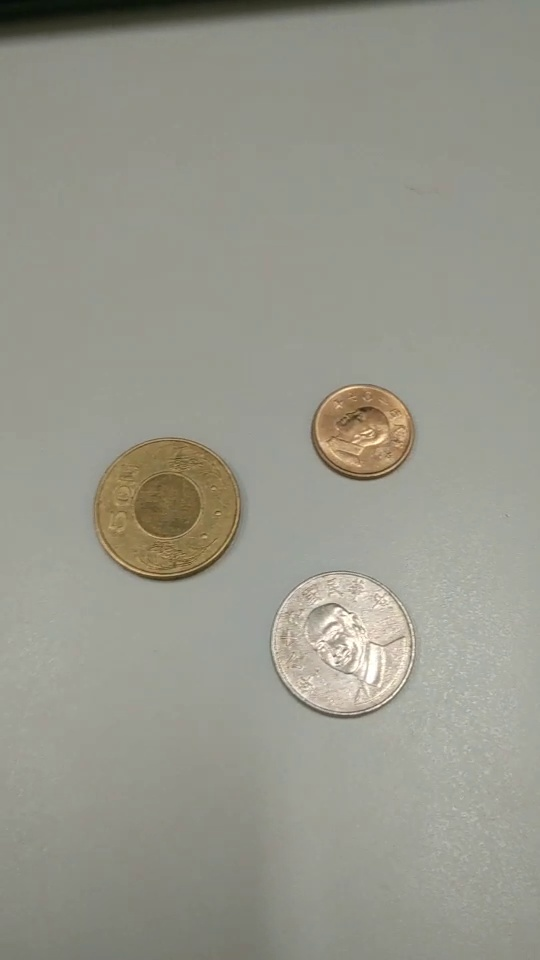NT$ 1: (312, 384, 417, 482)
NT$ 10: (268, 572, 416, 717)
NT$ 50: (92, 435, 245, 583)
